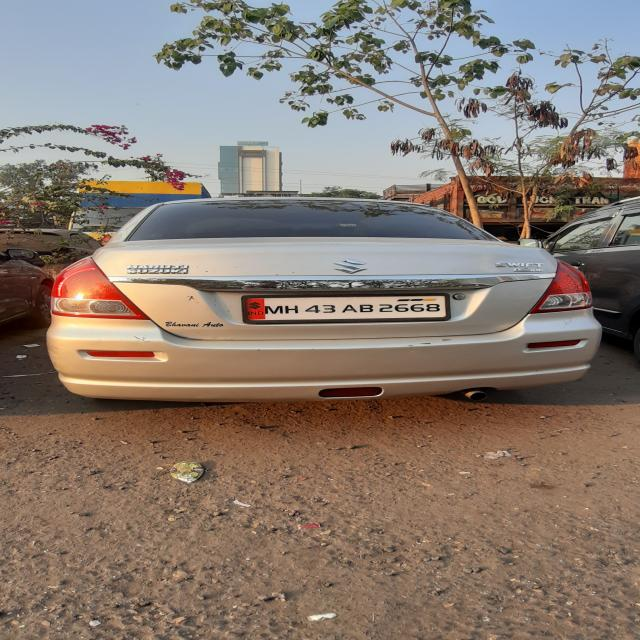Number-Plate: (244, 295, 446, 320)
